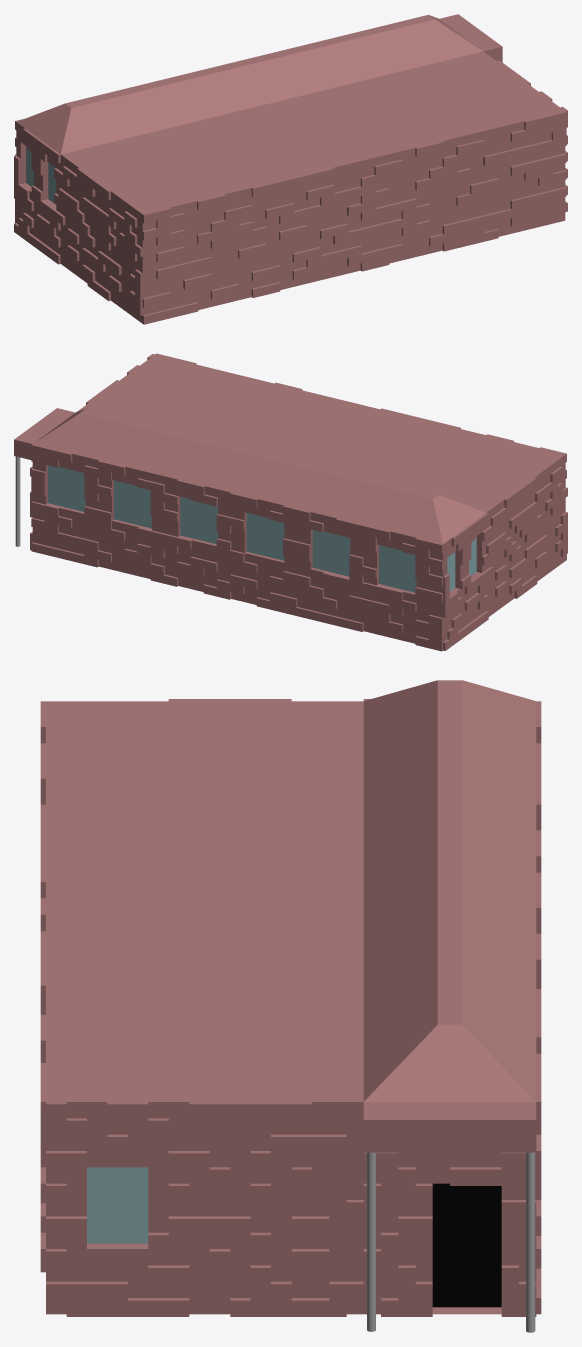
Rendered from RF_Lodge 1.fbx.
3 views of the same model, one above another, from view 1: azimuth 30°, elevation 25°; view 2: azimuth 150°, elevation 25°; view 3: azimuth 270°, elevation 25° (orthographic). The views are drawn at different scales.
Parts seen in each view (by area): view 1: polySurface34; view 2: polySurface34; view 3: polySurface34.
Boxes of the visible parts, <box> form: polySurface34: <box>14,14,567,324</box>; polySurface34: <box>14,353,567,651</box>; polySurface34: <box>40,680,541,1332</box>.
Bounding box in the file's own units: 43.76 × 12.72 × 21.99.
